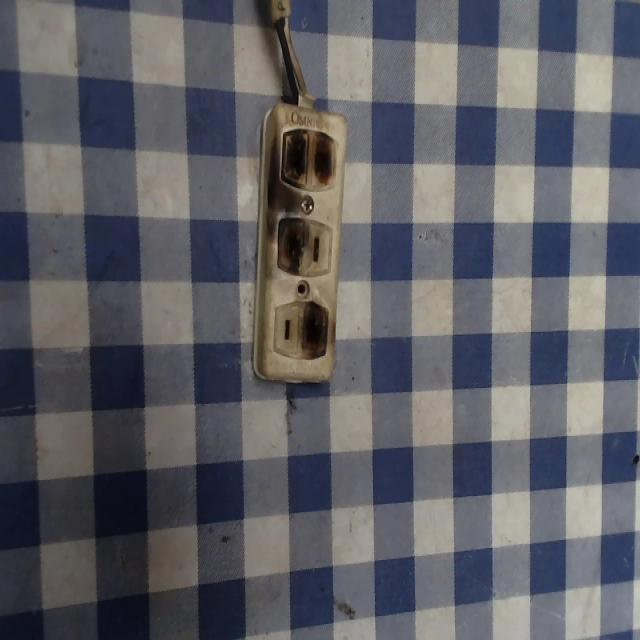-: (278, 124, 339, 197), (295, 294, 331, 362), (273, 212, 306, 275)
